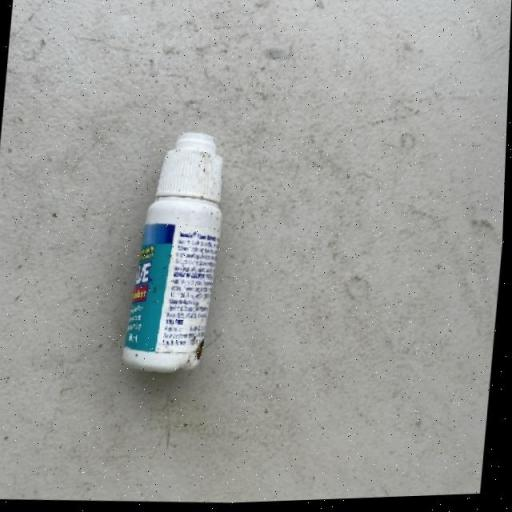plastic: (122, 129, 232, 378)
